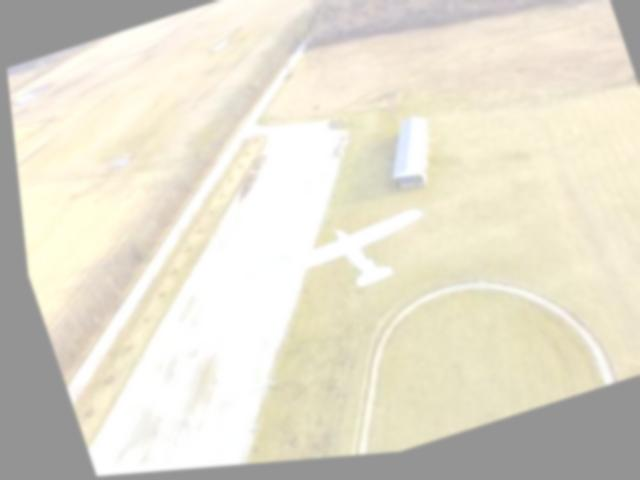uav: (251, 201, 437, 327)
